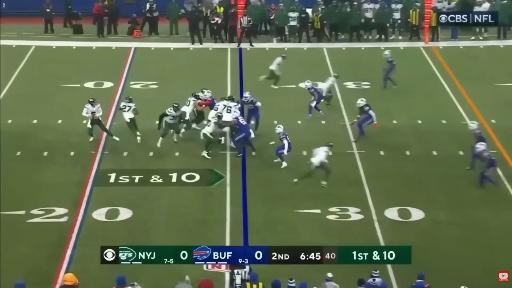Helmet: (475, 143, 487, 152), (202, 90, 213, 99), (232, 109, 242, 118), (382, 50, 391, 59), (468, 122, 478, 130), (356, 99, 366, 107), (333, 72, 341, 80), (88, 98, 97, 105), (276, 125, 283, 133), (243, 92, 250, 100), (215, 112, 223, 119), (191, 93, 200, 99), (305, 81, 312, 88), (126, 96, 133, 103), (327, 142, 334, 149), (227, 96, 235, 102), (173, 103, 179, 111), (281, 53, 286, 59)
Jersey: (358, 104, 376, 126), (208, 101, 227, 120), (311, 147, 329, 165), (318, 77, 335, 96), (480, 150, 497, 169), (223, 102, 238, 121), (235, 116, 250, 135), (120, 102, 135, 120), (83, 104, 102, 118), (182, 97, 197, 114), (164, 108, 181, 123), (308, 86, 323, 103), (241, 97, 259, 111), (385, 53, 396, 75), (204, 119, 219, 134), (269, 56, 283, 70), (279, 132, 290, 149), (359, 104, 372, 117), (473, 130, 486, 143), (391, 4, 402, 19), (363, 4, 374, 18), (385, 53, 396, 66), (206, 97, 216, 110), (288, 12, 298, 25)
Player: (294, 143, 332, 187), (83, 98, 119, 141), (350, 99, 378, 141), (157, 103, 183, 147), (180, 93, 204, 136), (231, 116, 255, 156), (475, 143, 497, 186), (201, 113, 222, 158), (120, 97, 140, 142), (260, 54, 286, 88), (241, 92, 261, 130), (275, 125, 291, 167), (318, 74, 339, 105), (305, 81, 323, 117), (390, 0, 403, 39), (230, 265, 252, 287), (208, 98, 228, 122), (384, 51, 396, 89), (363, 0, 375, 38), (208, 98, 227, 120), (223, 96, 239, 121), (467, 146, 482, 169), (199, 89, 215, 110)
